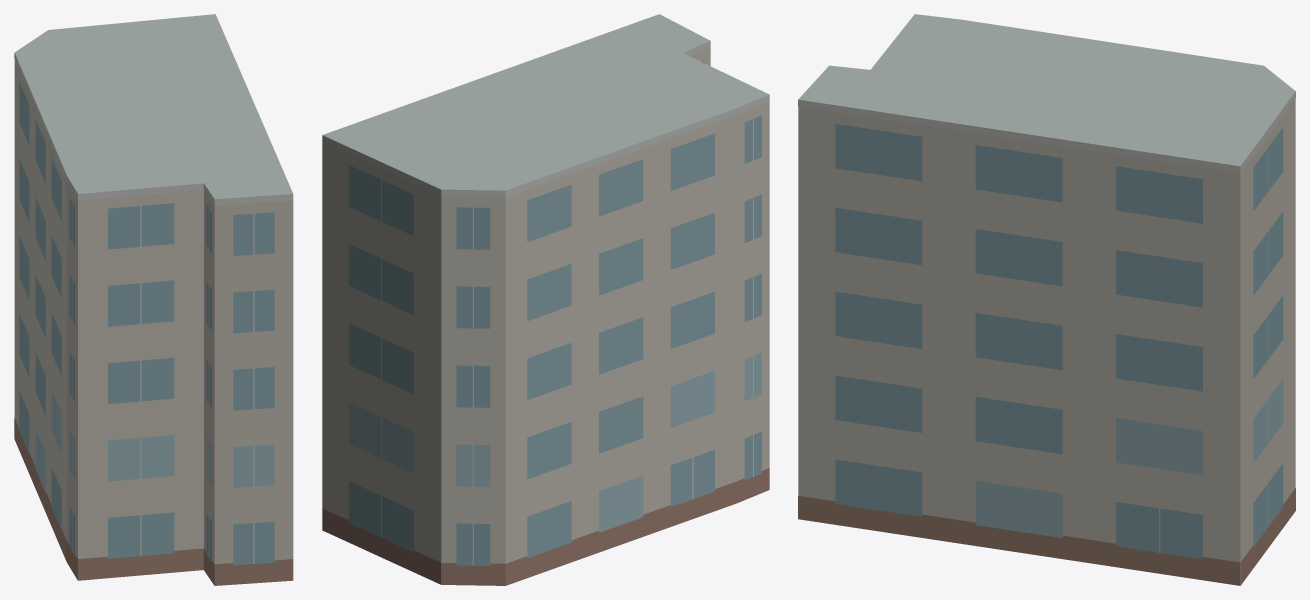
Rendered from survey-upis-32851175.glb.
3 renders of one model, left to right at view 1: azimuth 30°, elevation 25°; view 2: azimuth 150°, elevation 25°; view 3: azimuth 270°, elevation 25°, orthographic. The views are drawn at different scales.
Visible parts, largest first — view 1: survey-upis-32851175.tmp; view 2: survey-upis-32851175.tmp; view 3: survey-upis-32851175.tmp.
Part boxes in pixels (<box>): survey-upis-32851175.tmp: <box>14,14,293,585</box>; survey-upis-32851175.tmp: <box>322,14,769,585</box>; survey-upis-32851175.tmp: <box>798,14,1295,585</box>.
Size of the model in its own units: 11.3 by 14.5 by 15.6.
